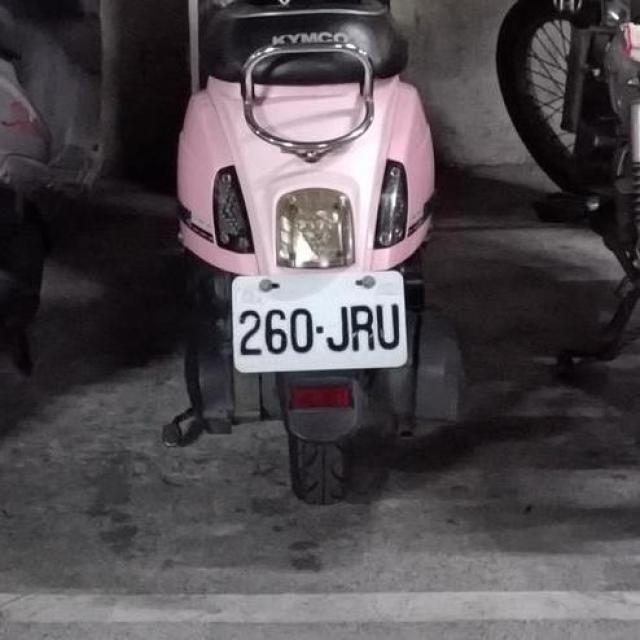W: (228, 264, 411, 374)
